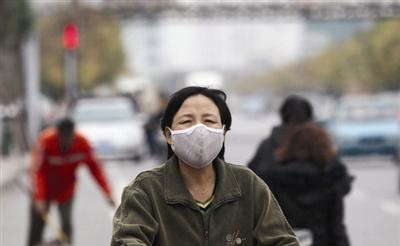Mask: (168, 107, 224, 164)
